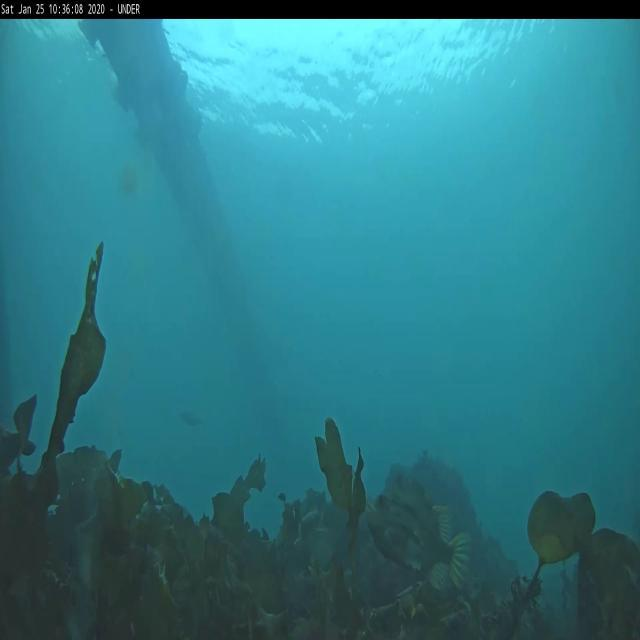fish: (178, 408, 210, 432)
